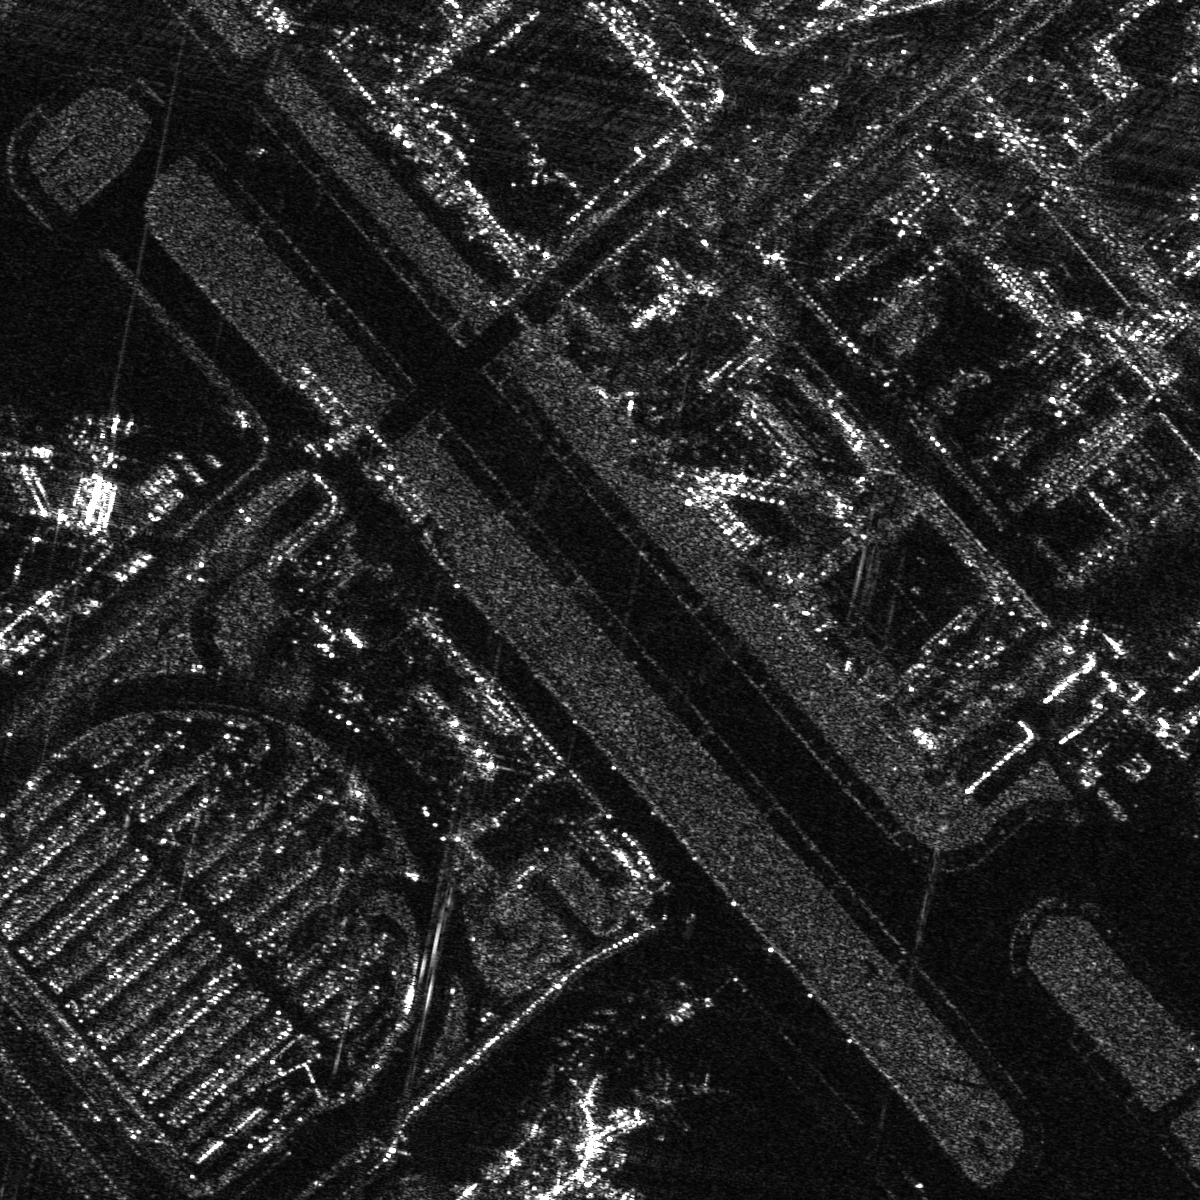Boeing737: (1, 401, 57, 470)
Boeing787: (69, 403, 154, 473)
